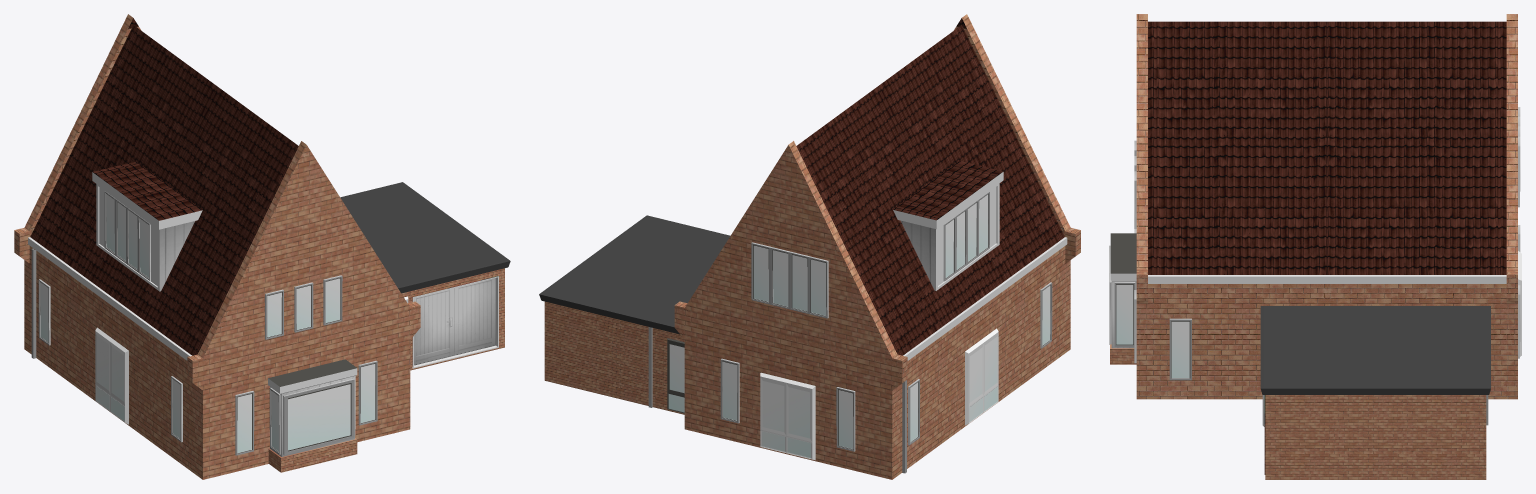
File: Woning Hameie type 4.fbx
The picture shows the model from 3 angles, left to right: view 1: azimuth 30°, elevation 25°; view 2: azimuth 150°, elevation 25°; view 3: azimuth 270°, elevation 25°; orthographic projection. The views are drawn at different scales.
Visible parts, largest first — view 1: Woning_Hameie_type_4; view 2: Woning_Hameie_type_4; view 3: Woning_Hameie_type_4.
Part boxes in pixels (x1,y1,x2,y2): Woning_Hameie_type_4: (14,14,510,479); Woning_Hameie_type_4: (539,14,1080,479); Woning_Hameie_type_4: (1109,14,1521,479).
Bounding box in the file's own units: 13.05 × 10.29 × 11.61.
1 material, 1 textured.
